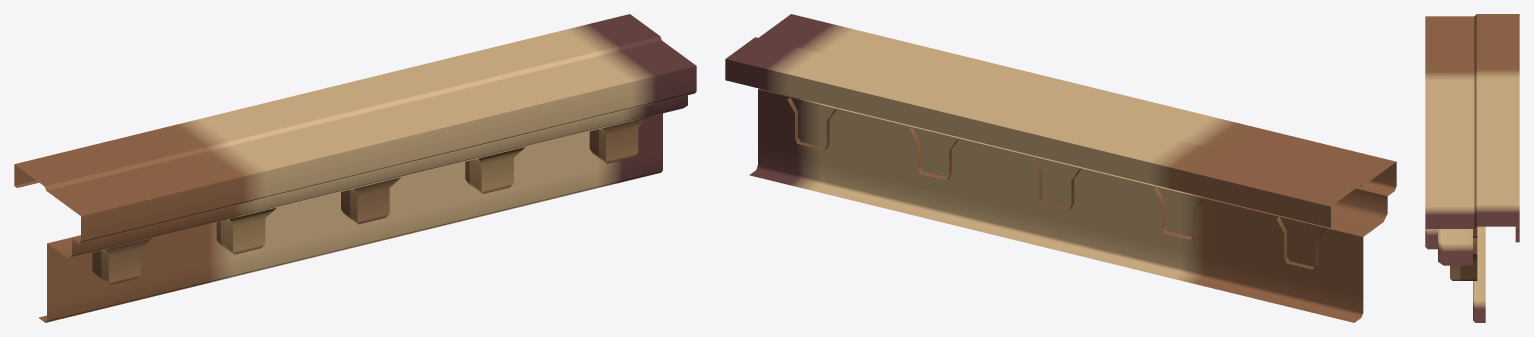
Rendered from DBK_Cornice_C_Full.fbx.
3 renders of one model, left to right at view 1: azimuth 30°, elevation 25°; view 2: azimuth 150°, elevation 25°; view 3: azimuth 270°, elevation 25°, orthographic. The views are drawn at different scales.
Parts seen in each view (by area): view 1: DBK_Cornice_C_Full; view 2: DBK_Cornice_C_Full; view 3: DBK_Cornice_C_Full.
Part boxes in pixels (<box>): DBK_Cornice_C_Full: <box>14,14,696,322</box>; DBK_Cornice_C_Full: <box>725,14,1396,322</box>; DBK_Cornice_C_Full: <box>1425,14,1519,322</box>.
Size of the model in its own units: 300 by 63.25 by 56.36.
